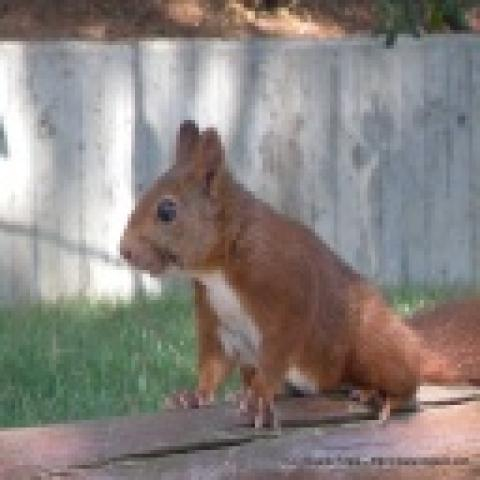small_animal: (116, 116, 424, 428)
